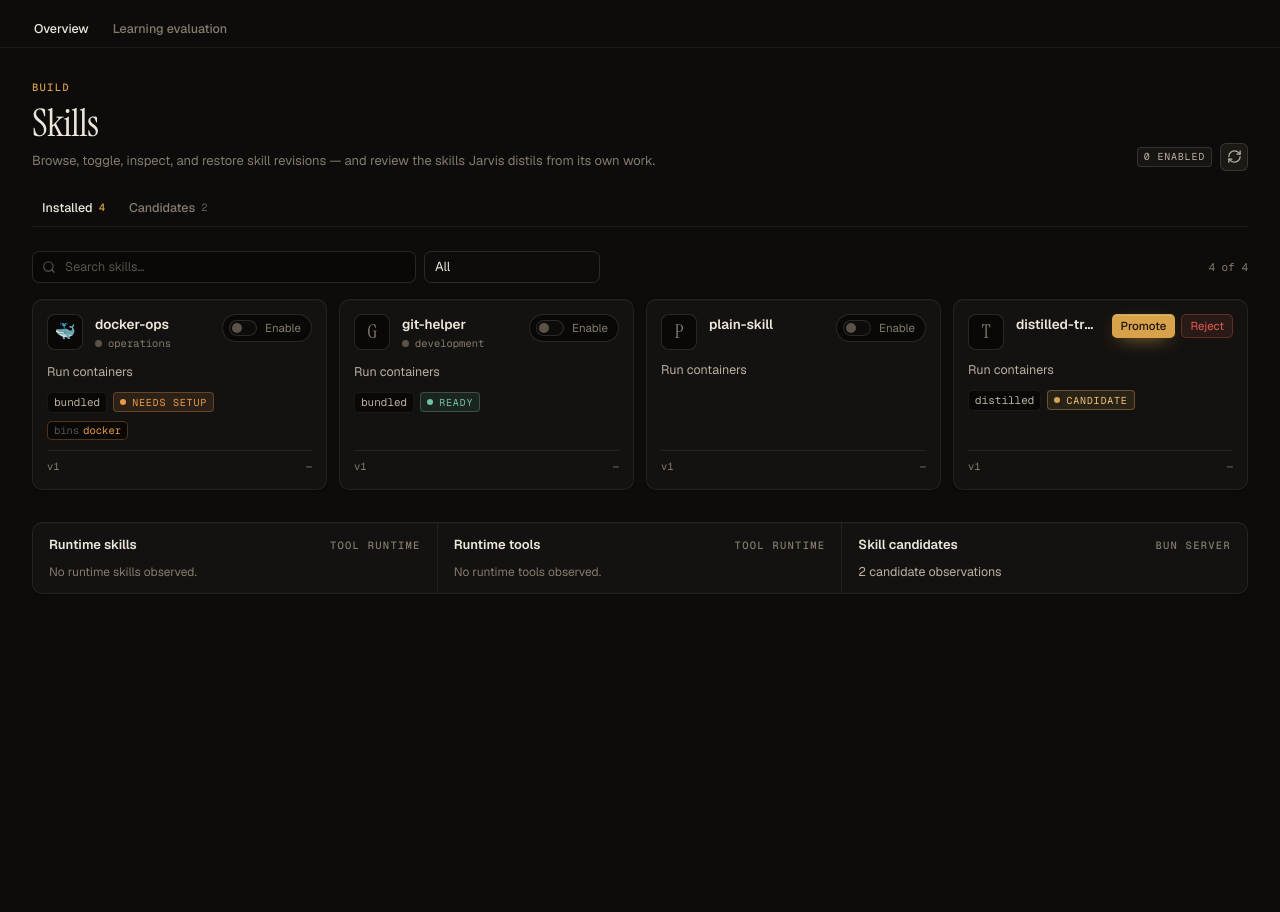
Test: Skills Candidates tab › opens the linked skill in the Installed inspector
Check: the button with aria-label "Inspect skill: docker-ops" is shown, box [95,314,169,334]
Click the tab "Candidates 2" at {"x": 168, "y": 209}, box [119,191,217,227]
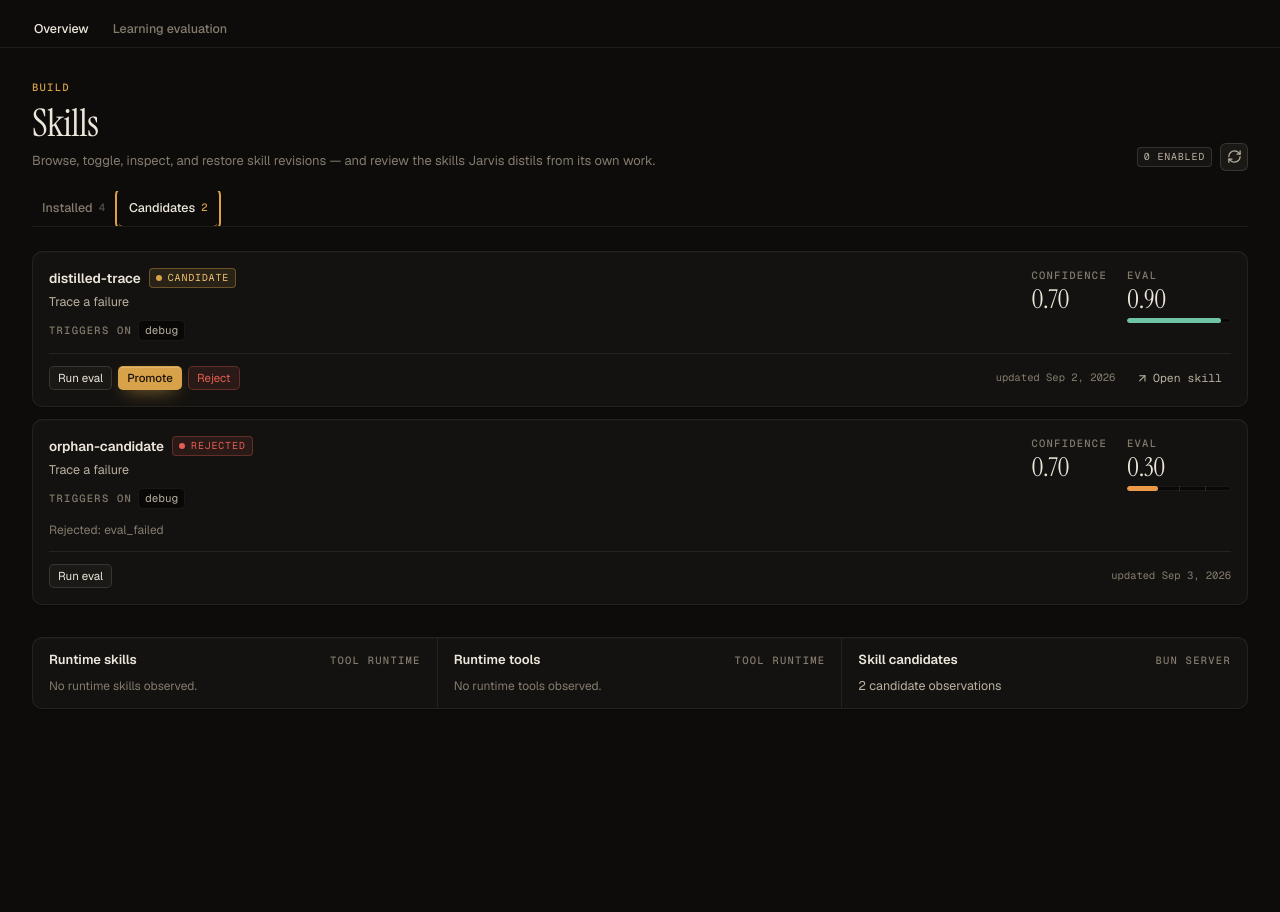
Click the button "Open skill" at {"x": 1179, "y": 378}, box [1127,366,1231,390]
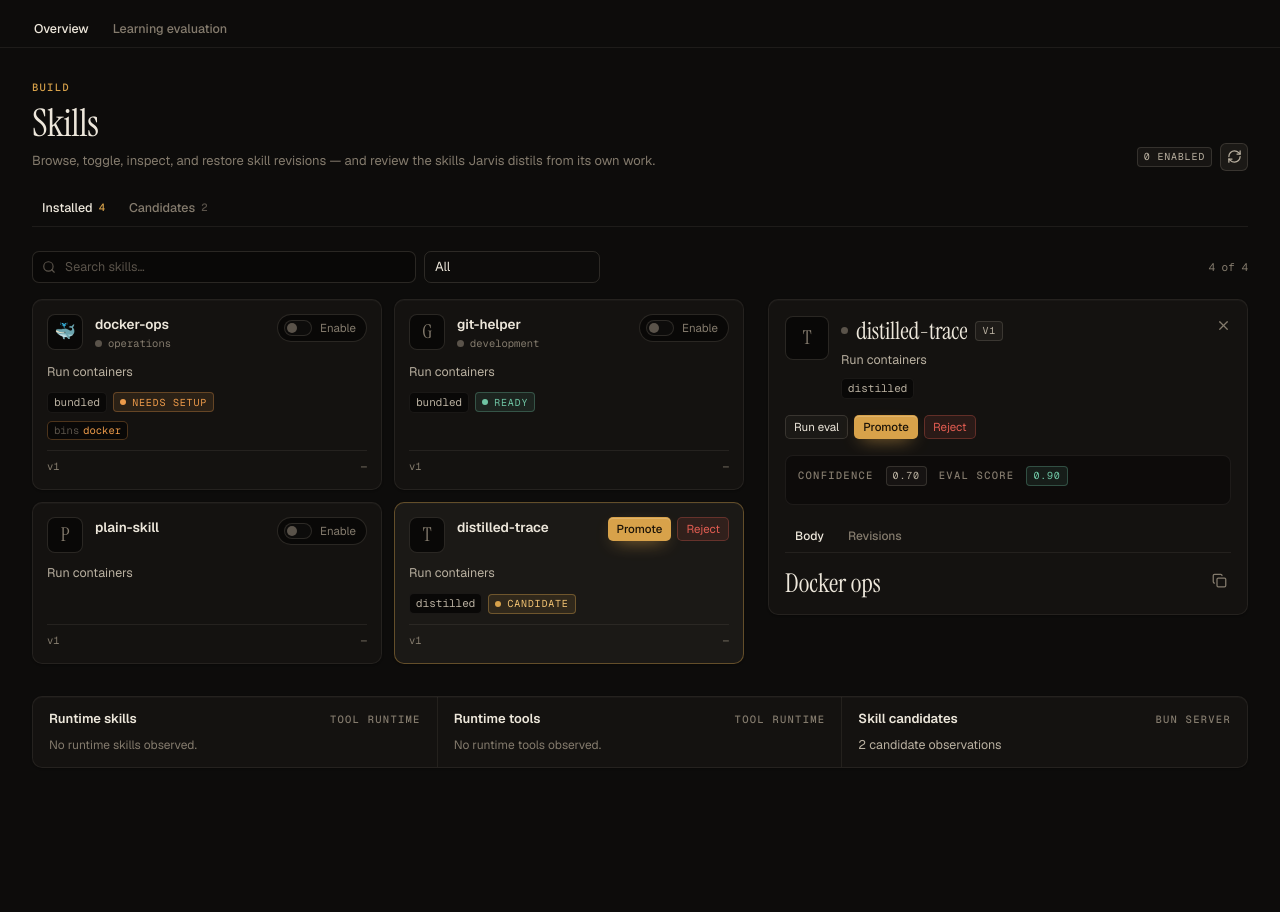
Check: the element named "Skill details: distilled-trace" is shown, box [768,299,1248,615]
